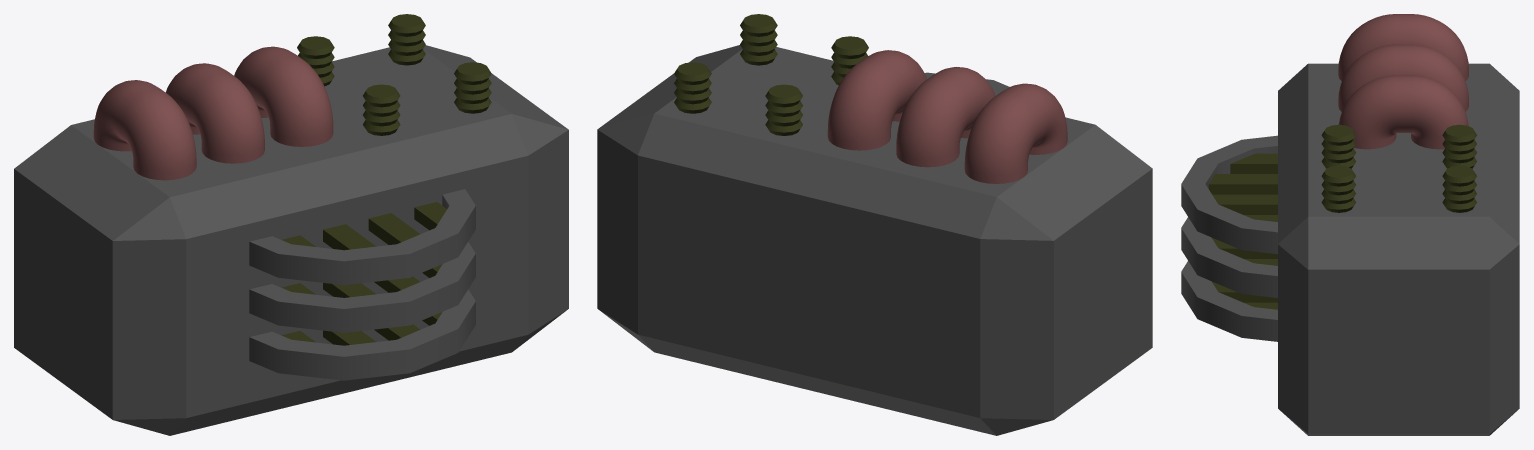
File: System_Generic_03.fbx
3 views of the same model, side by side, from view 1: azimuth 30°, elevation 25°; view 2: azimuth 150°, elevation 25°; view 3: azimuth 270°, elevation 25° (orthographic). The views are drawn at different scales.
Parts seen in each view (by area): view 1: block_bevel, grate_round (×3), pipe_smallBend (×6), tube_rubber (×4); view 2: block_bevel, pipe_smallBend (×6), tube_rubber (×4); view 3: block_bevel, grate_round (×3), pipe_smallBend (×6), tube_rubber (×4).
Part boxes in pixels (x1,y1,x2,y2): block_bevel: [14, 45, 568, 435]; grate_round (×3): [249, 189, 475, 380]; pipe_smallBend (×6): [93, 46, 333, 180]; tube_rubber (×4): [297, 14, 491, 135]; block_bevel: [597, 45, 1152, 435]; pipe_smallBend (×6): [827, 50, 1067, 183]; tube_rubber (×4): [674, 14, 868, 135]; block_bevel: [1278, 63, 1519, 435]; grate_round (×3): [1181, 135, 1277, 341]; pipe_smallBend (×6): [1338, 14, 1468, 149]; tube_rubber (×4): [1321, 124, 1476, 212].
Bounding box in the file's own units: 20 × 12.7 × 14.
